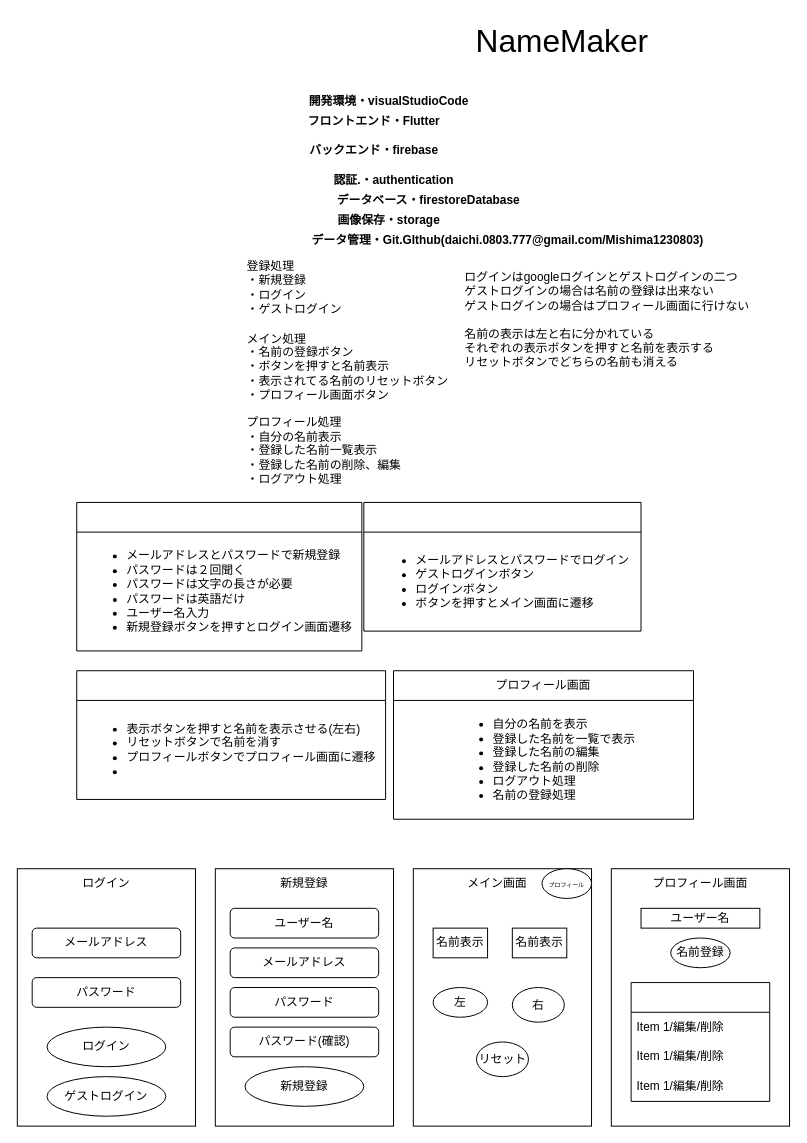
Some shapes in this 807 by 1143 pixel diagram are drawn without their labels. The box of each missing label's shape, as (x1, y1, x2, y2) in pixels:
firebaseAuthでログイン処理 作成: (363, 501, 641, 631)
firebaseAuthで新規登録処理作成: (76, 501, 362, 651)
メイン画面処理: (76, 670, 386, 799)
登録一覧: (630, 982, 770, 1101)
